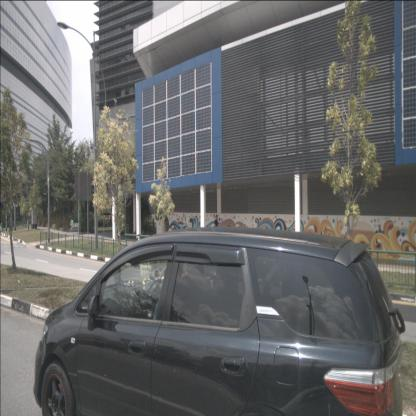human-pedestrian-adult: (214, 214, 218, 246), (130, 221, 134, 238)
vehicle-car: (33, 226, 406, 416)
